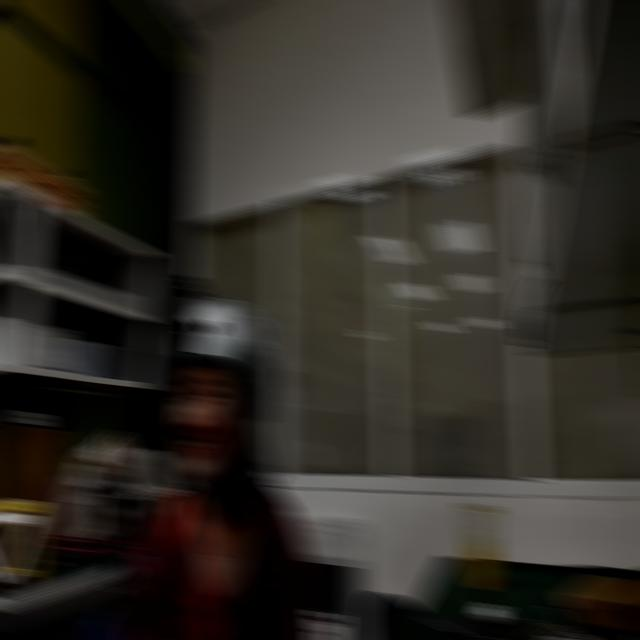With Helmet: (137, 221, 306, 572)
